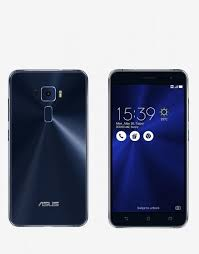asus: (7, 64, 90, 228), (106, 65, 189, 229)
